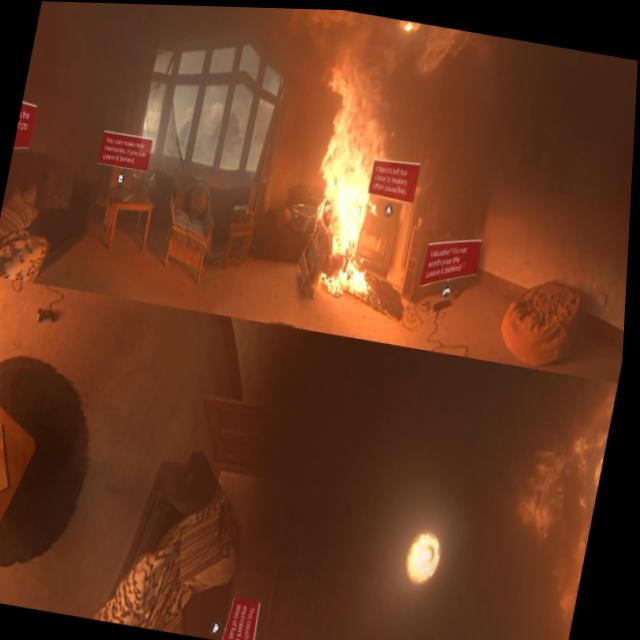fire: (292, 53, 413, 303)
